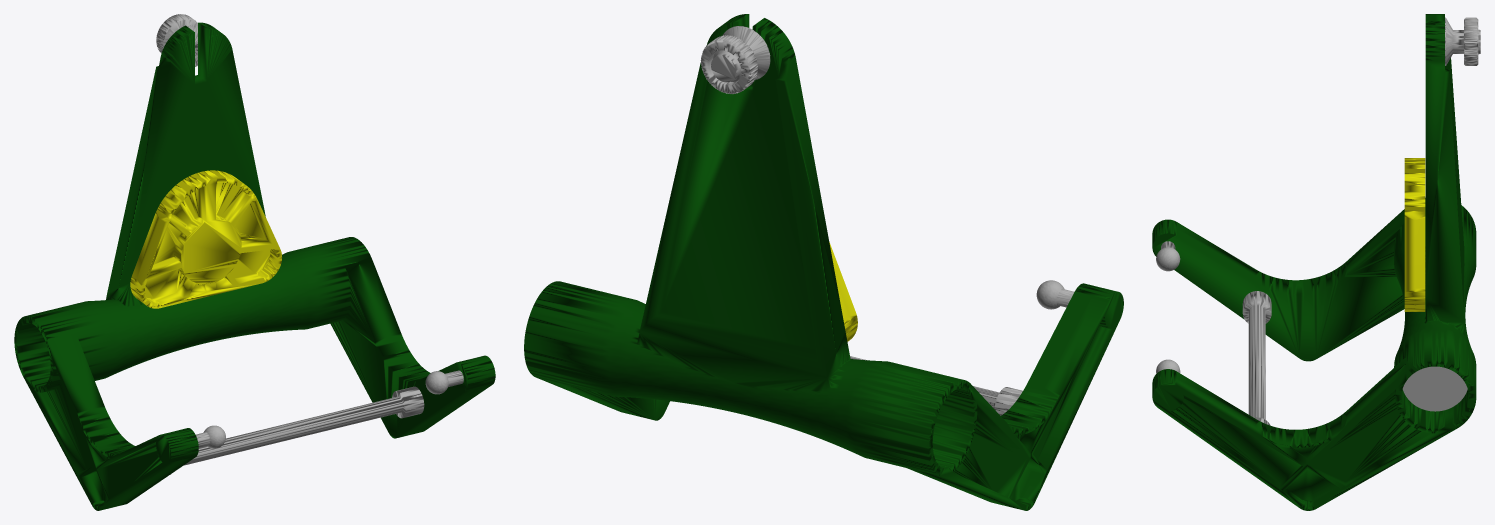
Rendered from lower_parts.obj.
3 renders of one model, left to right at view 1: azimuth 30°, elevation 25°; view 2: azimuth 150°, elevation 25°; view 3: azimuth 270°, elevation 25°, orthographic. The views are drawn at different scales.
Size of the model in its own units: 160 by 188 by 136.
